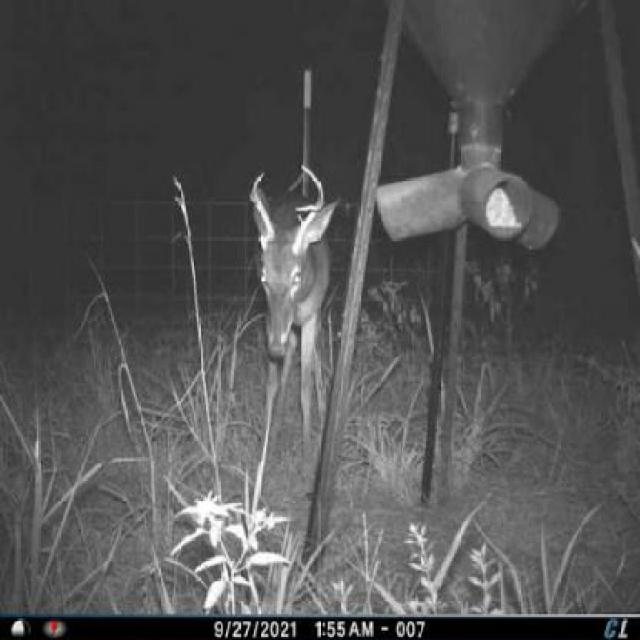Deer: (242, 153, 342, 470)
